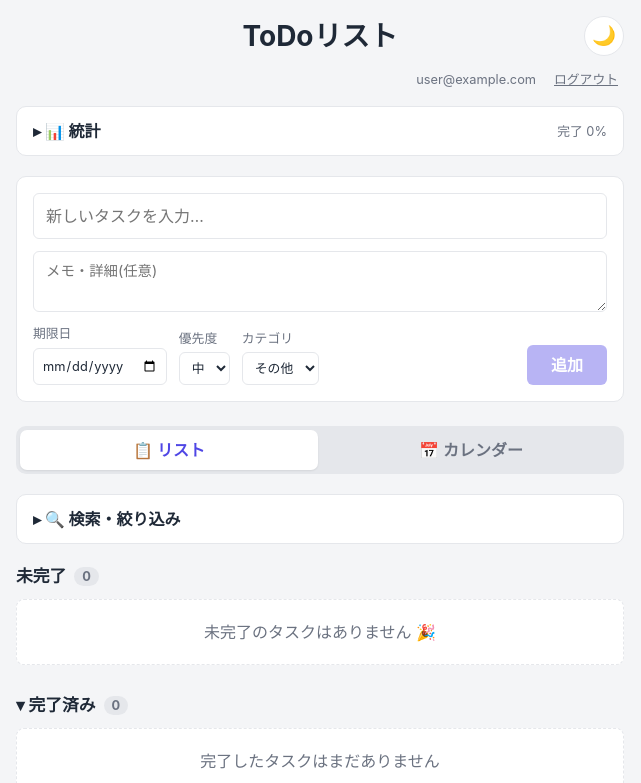
Test: 検索・絞り込みの開閉 › クリックで開くと検索・絞り込み・並び替えが表示され、状態が保存される
The image size is (641, 783).
Expected: the button "▸ 📊 統計 完了 0%" is shown, [17, 107, 623, 155]
What coordinates should you click on to do the following:
click the button "▸ 🔍 検索・絞り込み"
I would click on:
 (111, 519)
Its box is [17, 495, 623, 543].
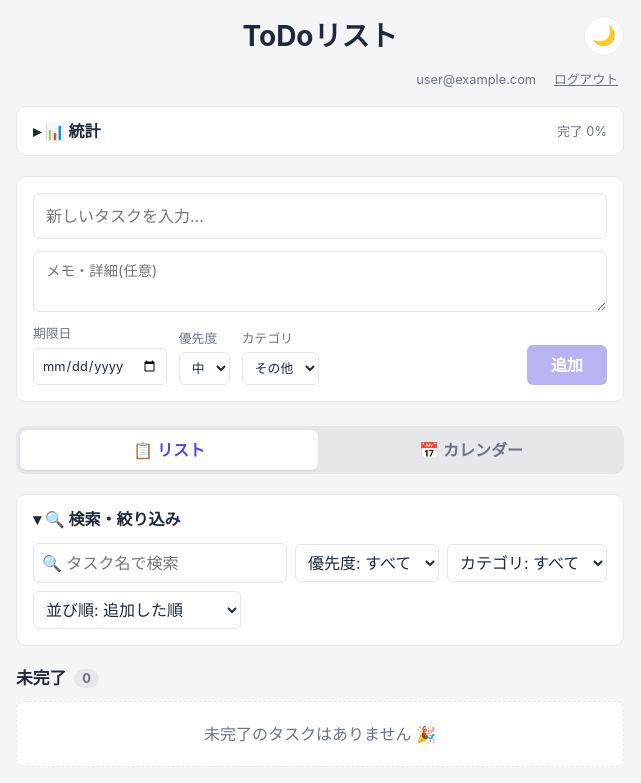
Result: the search field labelled "タスク名で検索" is shown at [33, 543, 287, 583]
Result: the dropdown named "優先度で絞り込み" is shown at [295, 544, 439, 582]
Result: the dropdown named "カテゴリで絞り込み" is shown at [447, 544, 607, 582]
